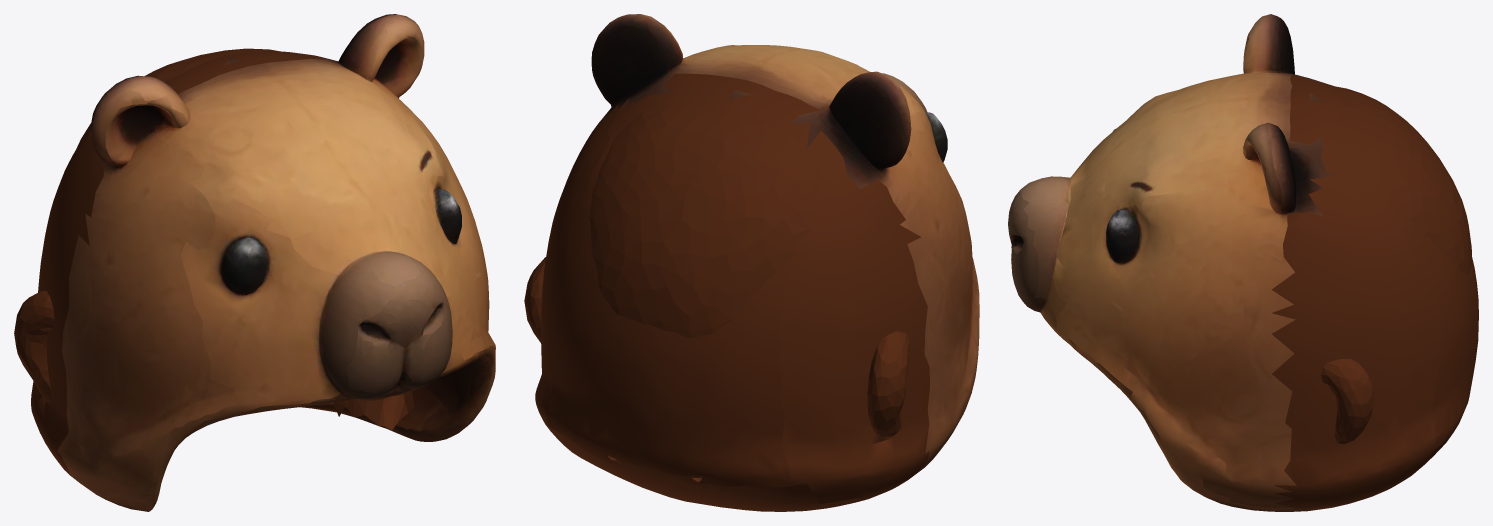
File: capybara.glb
The picture shows the model from 3 angles, left to right: view 1: azimuth 30°, elevation 25°; view 2: azimuth 150°, elevation 25°; view 3: azimuth 270°, elevation 25°; orthographic projection. The views are drawn at different scales.
Visible parts, largest first — view 1: geometry_0, HoodAnatomicalLining; view 2: geometry_0, HoodAnatomicalLining; view 3: geometry_0, HoodAnatomicalLining.
Part boxes in pixels (x1,y1,x2,y2): geometry_0: (31, 14, 495, 511); HoodAnatomicalLining: (14, 48, 415, 430); geometry_0: (535, 14, 979, 511); HoodAnatomicalLining: (524, 106, 909, 436); geometry_0: (1008, 14, 1478, 511); HoodAnatomicalLining: (1321, 86, 1471, 443).
Bounding box in the file's own units: 0.4602 × 0.4699 × 0.5312.
2 materials, 1 textured.
